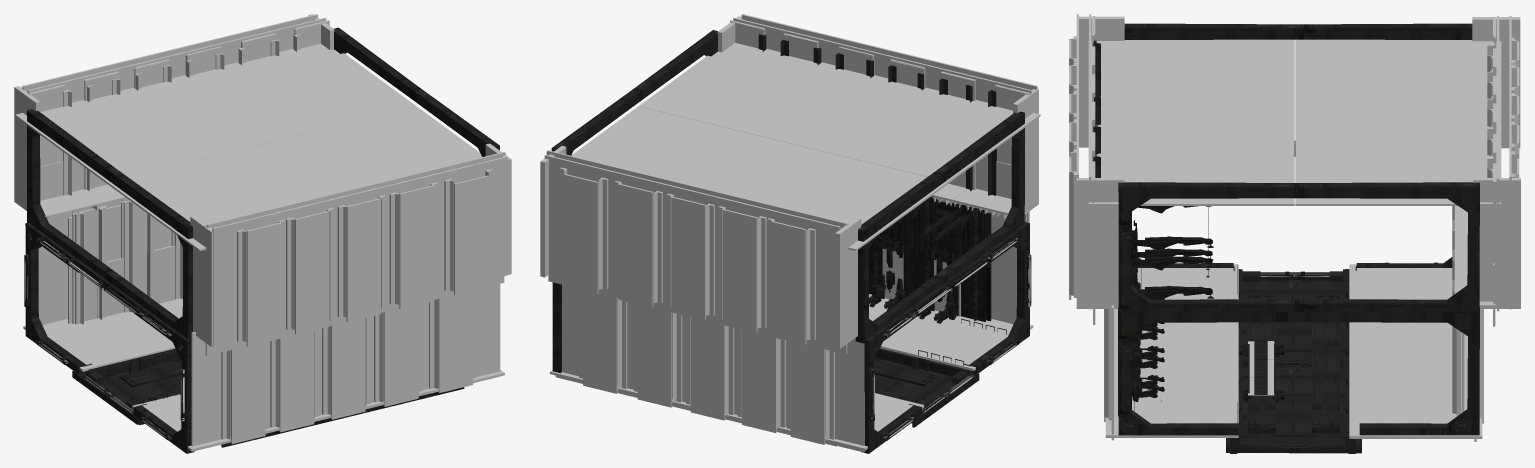
Rendered from hangar.FBX.
3 views of the same model, side by side, from view 1: azimuth 30°, elevation 25°; view 2: azimuth 150°, elevation 25°; view 3: azimuth 270°, elevation 25° (orthographic). The views are drawn at different scales.
Visible parts, largest first — view 1: hangar_base, out light; view 2: hangar_base, out light, machine_a, top_crane, crane03, crane04; view 3: hangar_base, top_crane, machine_b, machine_a.
Boxes of the visible parts, x1,y1,x2,y2 form: hangar_base: [14, 14, 511, 453]; out light: [24, 238, 184, 440]; hangar_base: [540, 14, 1040, 453]; out light: [870, 238, 1031, 440]; machine_a: [869, 270, 955, 323]; top_crane: [875, 200, 974, 292]; crane03: [873, 234, 904, 267]; crane04: [923, 240, 954, 273]; hangar_base: [1069, 14, 1520, 453]; top_crane: [1130, 206, 1213, 299]; machine_b: [1240, 340, 1284, 401]; machine_a: [1132, 282, 1164, 401].
Bounding box in the file's own units: 8603 × 6304 × 9415.
